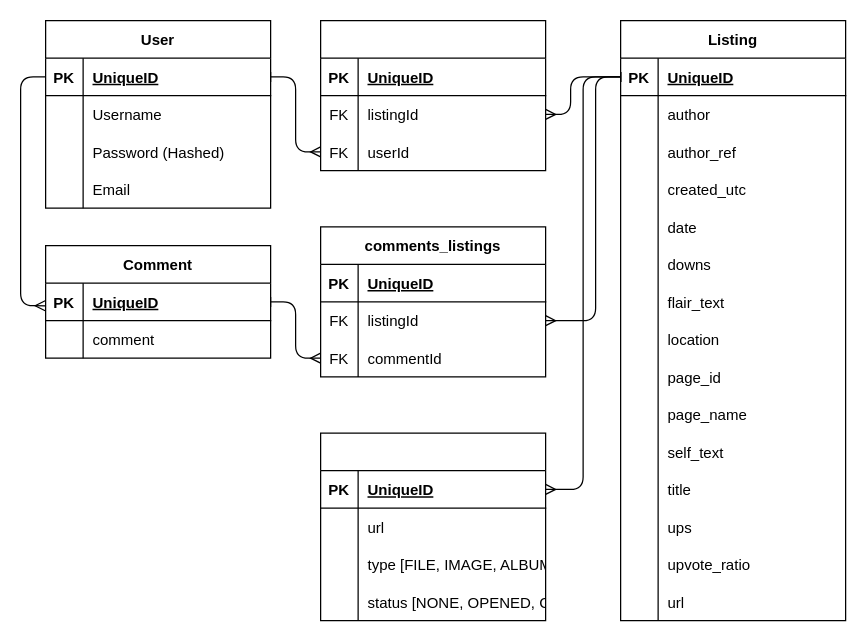
Image size: 866x641. Some labels were removed from this diagram. Here are the shapes that lost their labels. From the top down, the box of each, then its label:
(319, 19, 546, 171): users_listings
(319, 432, 546, 621): Timestamp
